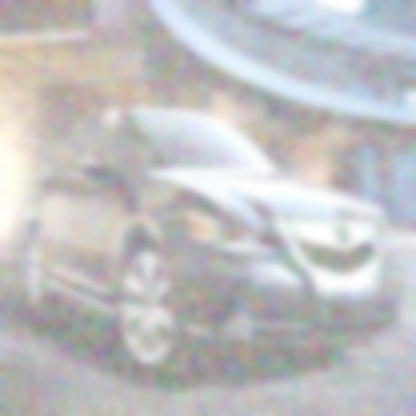Vehicle: (23, 104, 409, 390)
